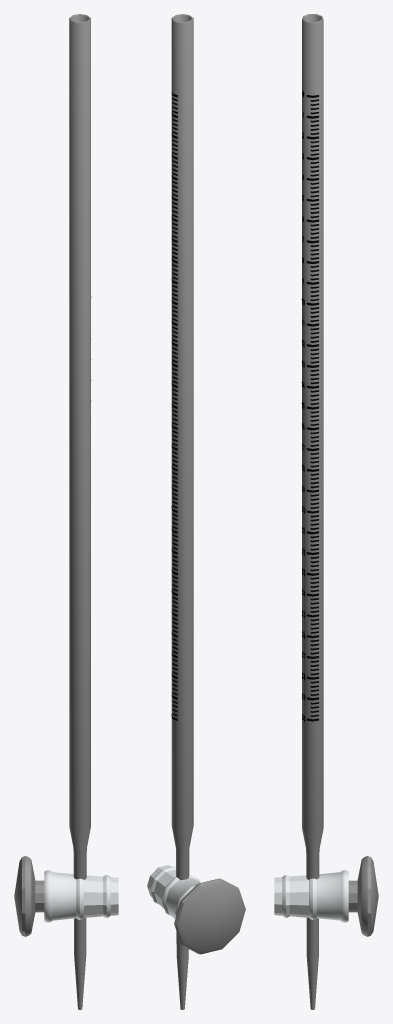
The model's file is SM_酸式滴定管.fbx.
The picture shows the model from 3 angles, left to right: view 1: azimuth 90°, elevation 25°; view 2: azimuth 210°, elevation 25°; view 3: azimuth 270°, elevation 25°; orthographic projection.
Parts seen in each view (by area): view 1: SM_酸式滴定管; view 2: SM_酸式滴定管; view 3: SM_酸式滴定管.
Boxes of the visible parts, <box> form: SM_酸式滴定管: <box>14,14,118,1009</box>; SM_酸式滴定管: <box>147,14,245,1009</box>; SM_酸式滴定管: <box>274,14,378,1009</box>.
Bounding box in the file's own units: 0.0535 × 0.7167 × 0.0686.
